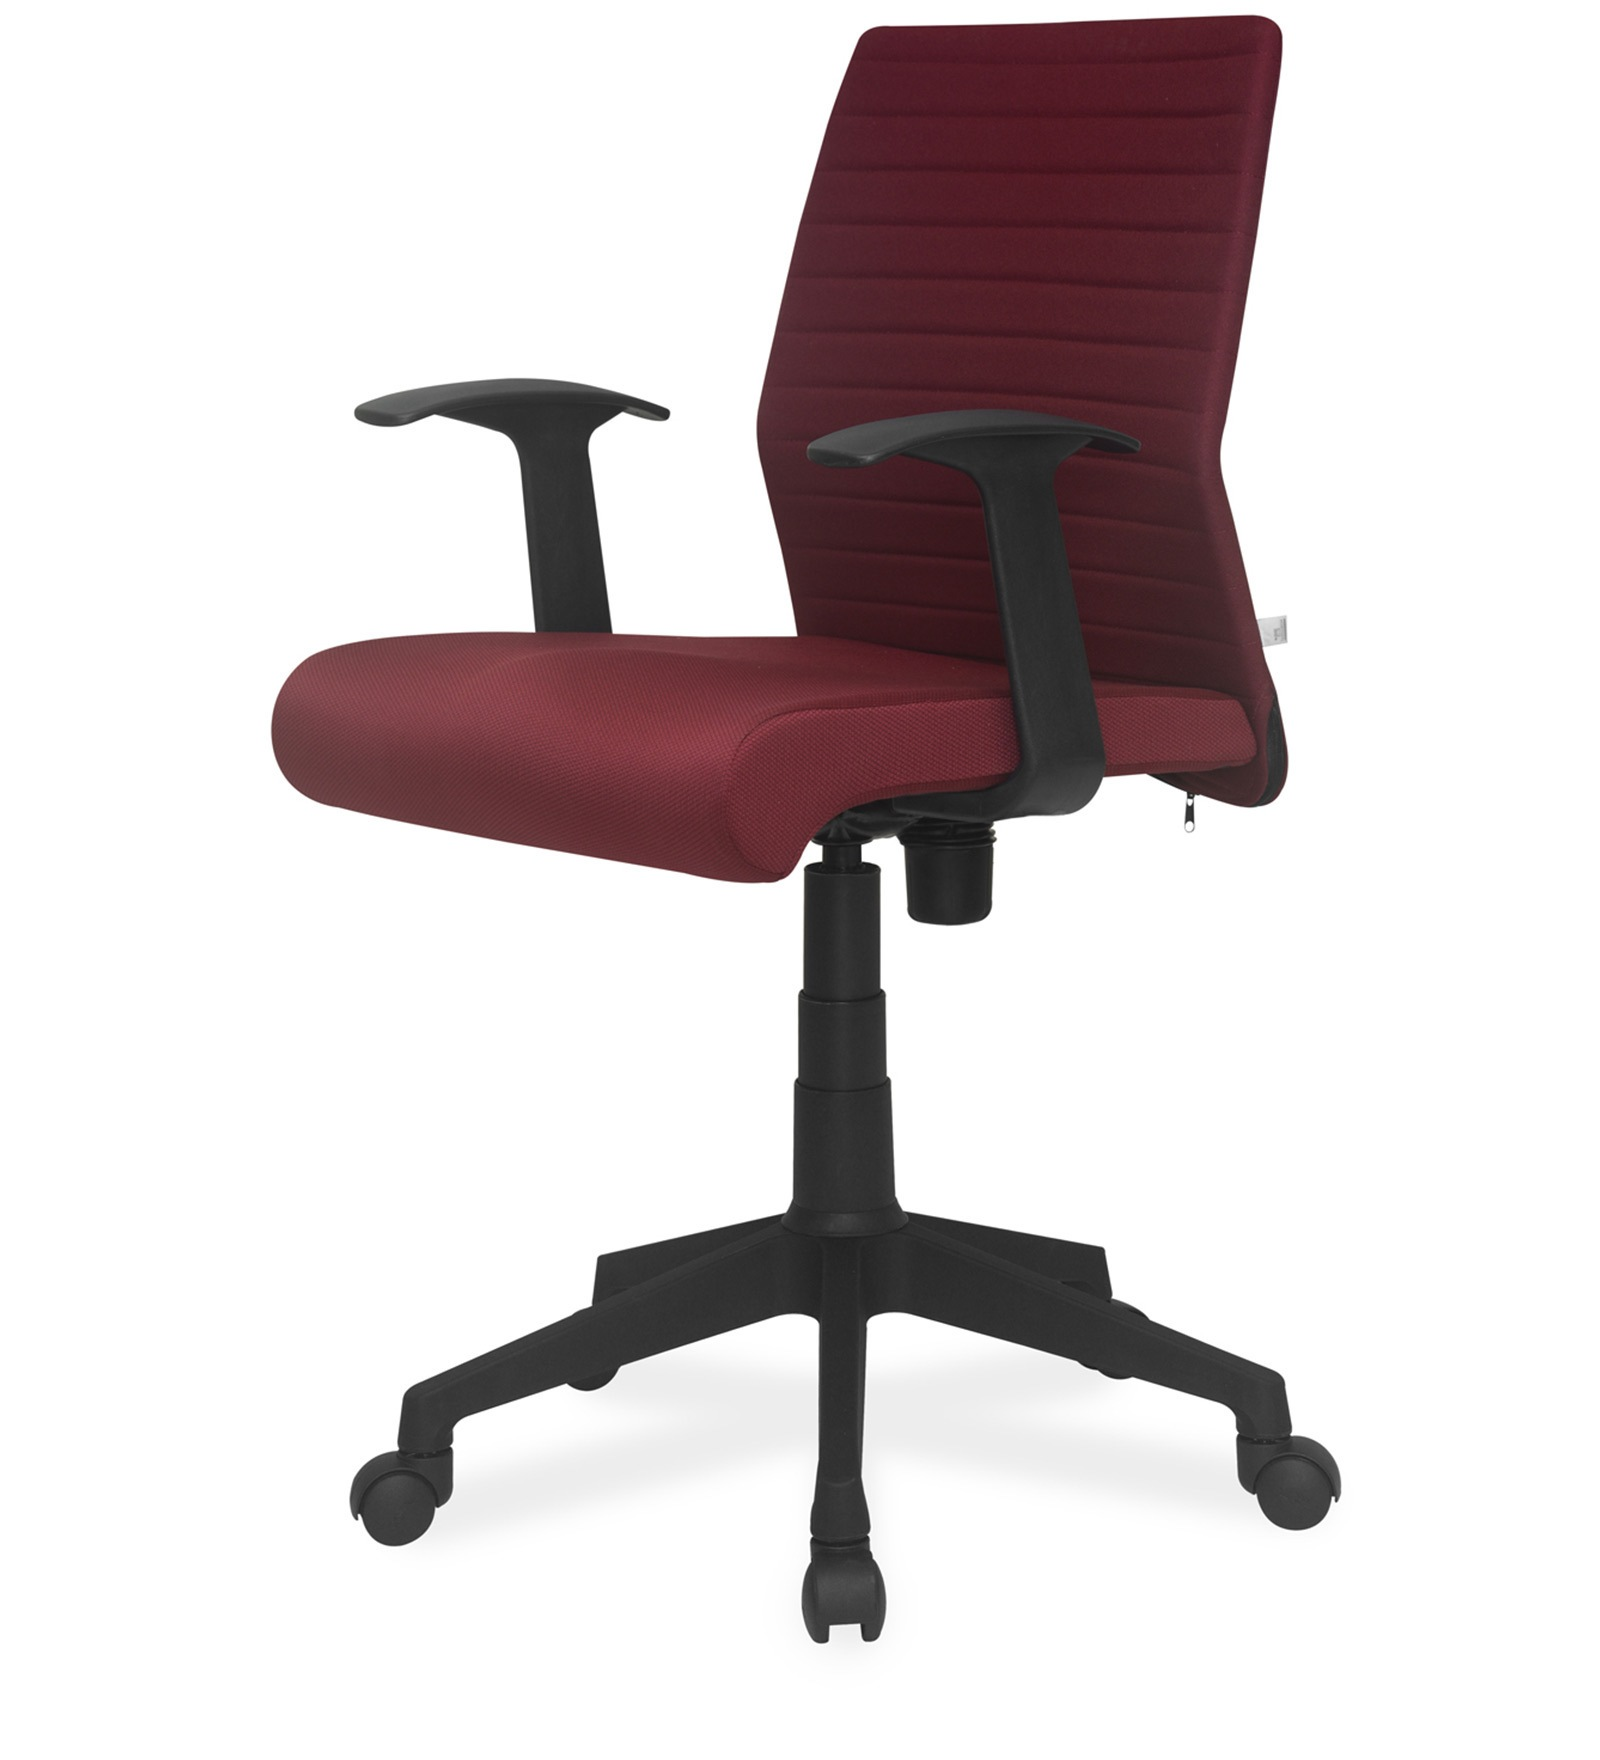Thames Low Back Ergonomic Chair in Maroon Colour by Nilkamal: (215, 15, 1503, 1682)
